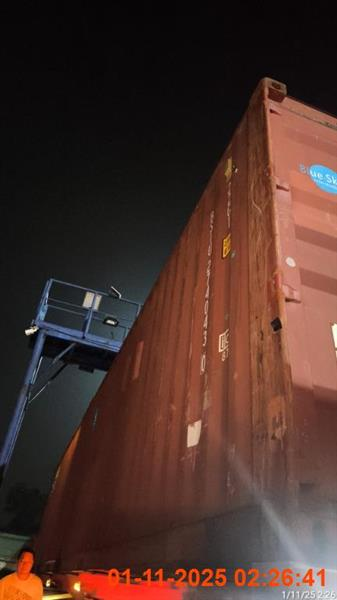broken: (21, 78, 335, 598), (0, 547, 44, 599)
